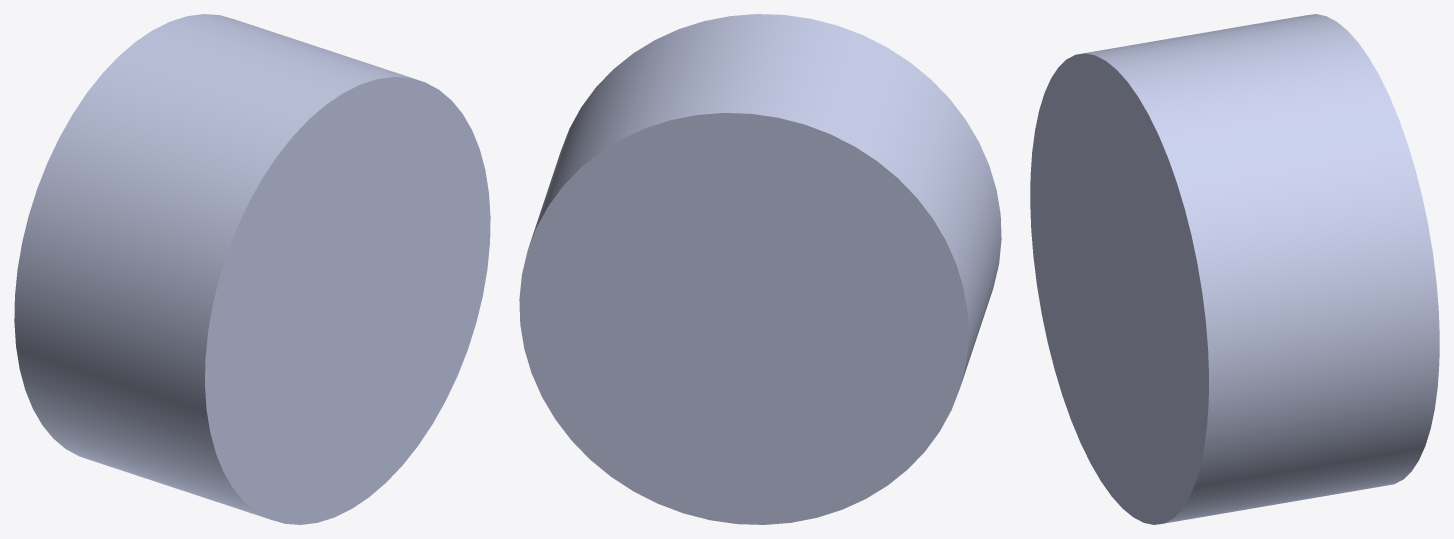
File: center_omni_link.dae
3 views of the same model, side by side, from view 1: azimuth 30°, elevation 25°; view 2: azimuth 150°, elevation 25°; view 3: azimuth 270°, elevation 25° (orthographic). The views are drawn at different scales.
Parts seen in each view (by area): view 1: node0; view 2: node0; view 3: node0.
Part boxes in pixels (box(x1,y1,x2,y2)): node0: box(14, 14, 490, 524); node0: box(519, 14, 1001, 524); node0: box(1030, 14, 1439, 524).
Bounding box in the file's own units: 0.0538 × 0.048 × 0.0412.
